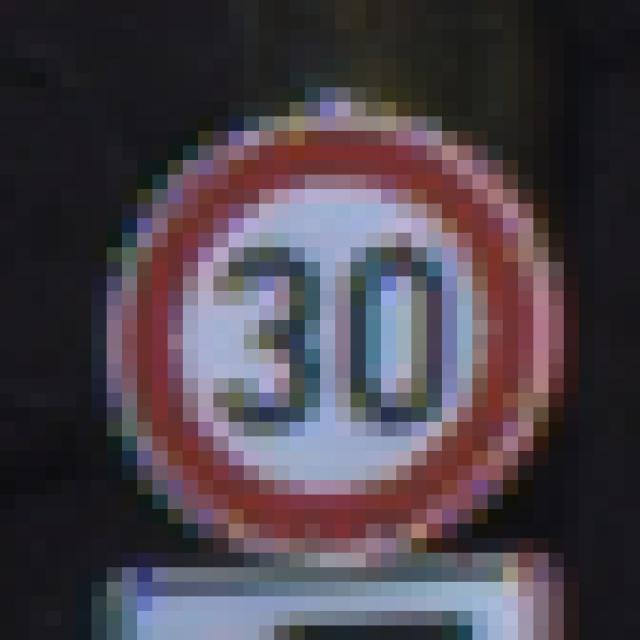Speed Limit -30-: (69, 80, 556, 560)
